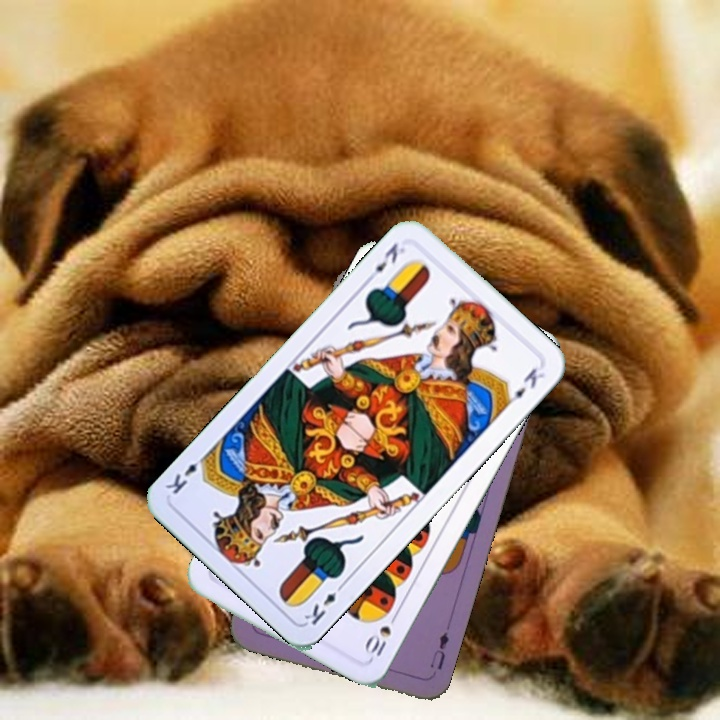EK: (300, 578, 348, 628), (362, 238, 408, 285)
EU: (426, 627, 452, 672)
S10: (361, 608, 401, 659)
